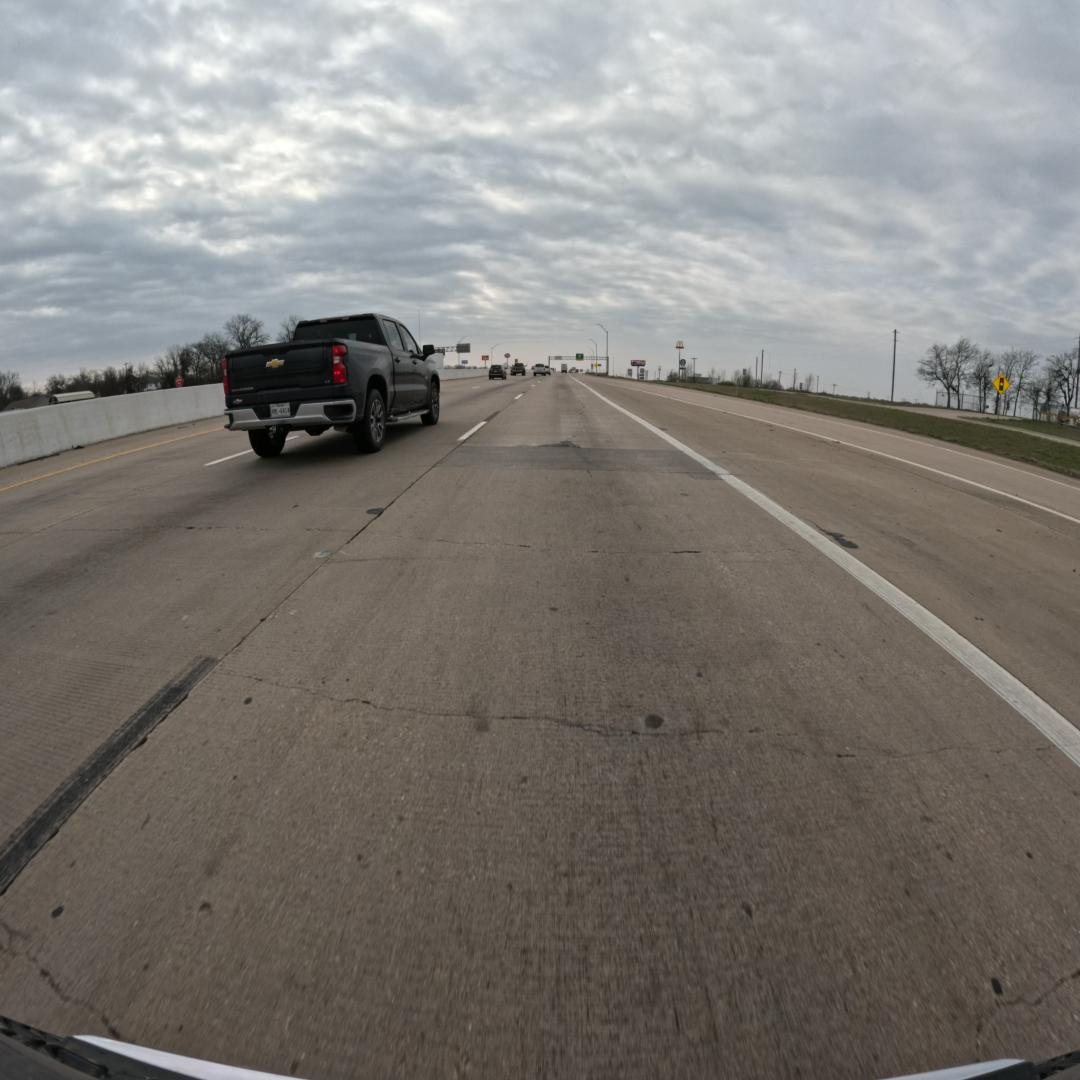lane0: (0, 378, 1080, 1076)
lane1: (0, 385, 512, 890)
